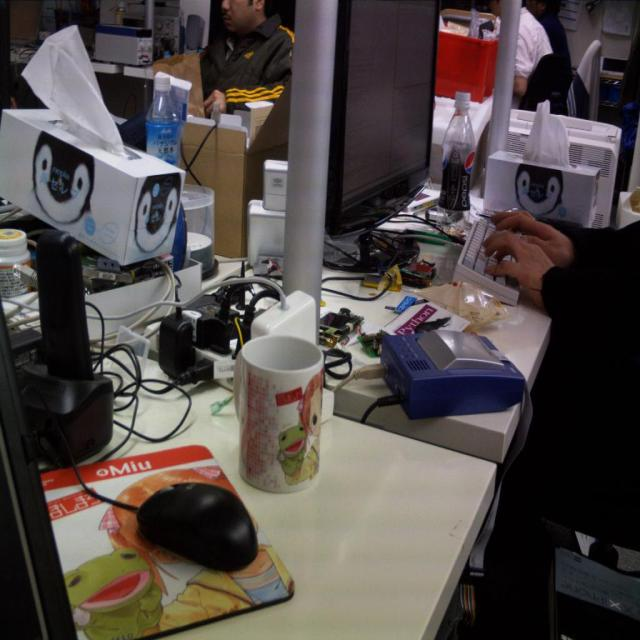Computer-mouse: (138, 481, 258, 573)
